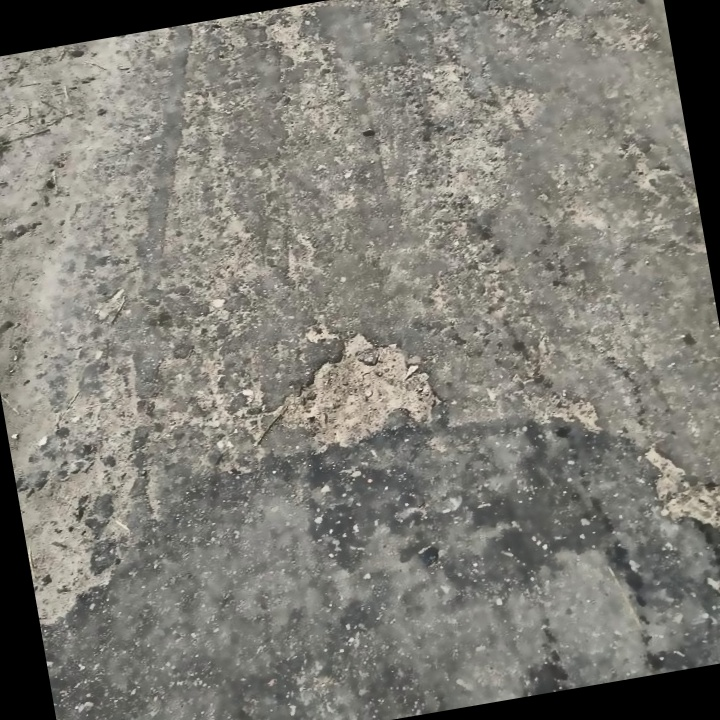pothole: (284, 314, 447, 453), (663, 477, 720, 539)
